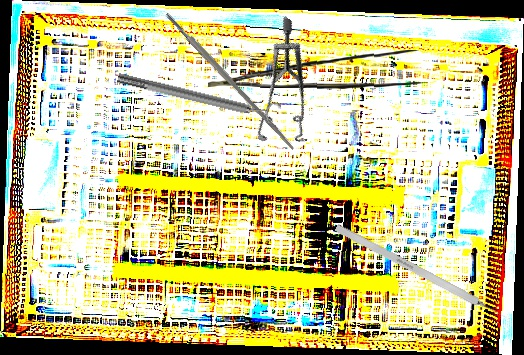Fixation Ring: (115, 63, 282, 130)
Hook Surgical: (334, 223, 512, 324)
Scalpel Handle: (164, 10, 297, 152)
Speculum: (216, 15, 359, 163)
Tissue Forceps: (208, 46, 426, 91)
